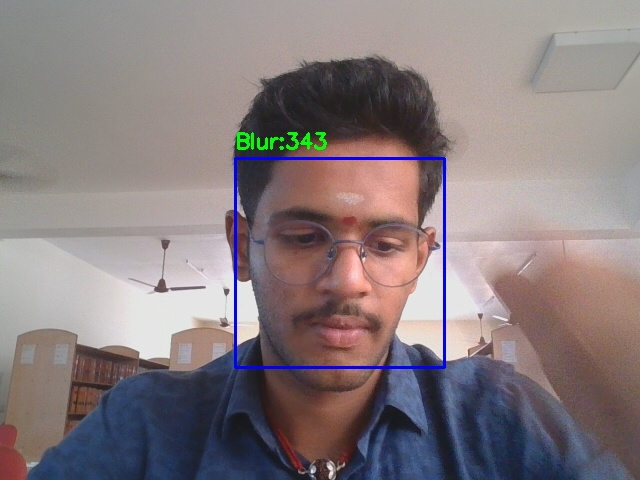real: (235, 158, 444, 367)
